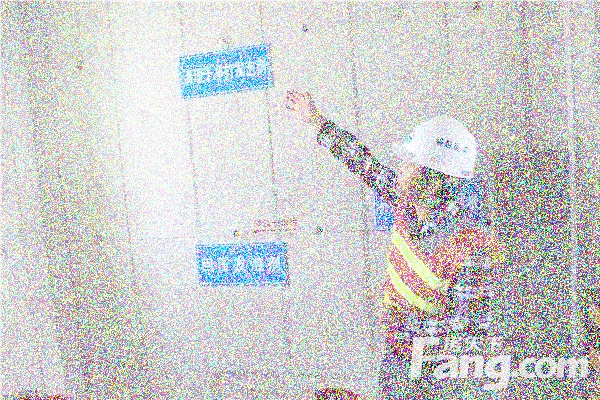helmet: (389, 112, 481, 203)
vest: (379, 198, 498, 372)
